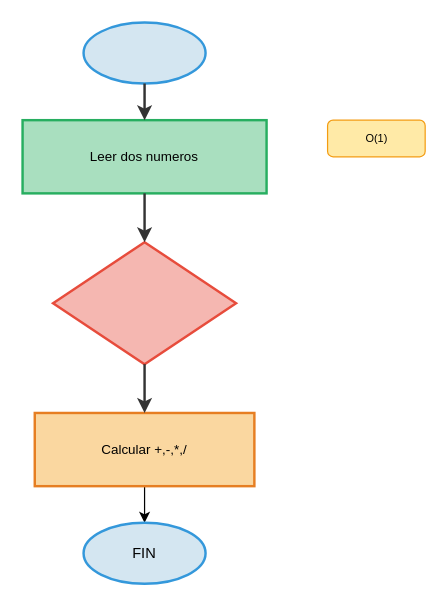
This 447x605 diagram has some shape labels left out. The centre of each missing label's shape, as x and y in pixels:
INICIO: the point at 144,52
¿Div/0?: the point at 144,302
